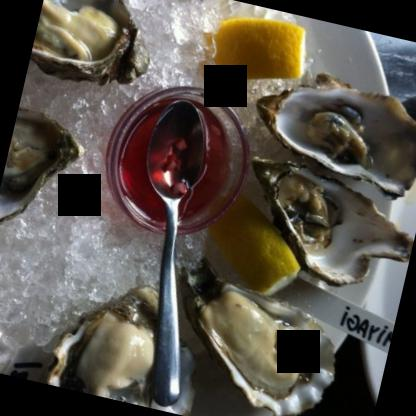oyster: (159, 268, 347, 415), (231, 159, 415, 301), (241, 64, 415, 206), (36, 270, 185, 410), (28, 0, 167, 94)
